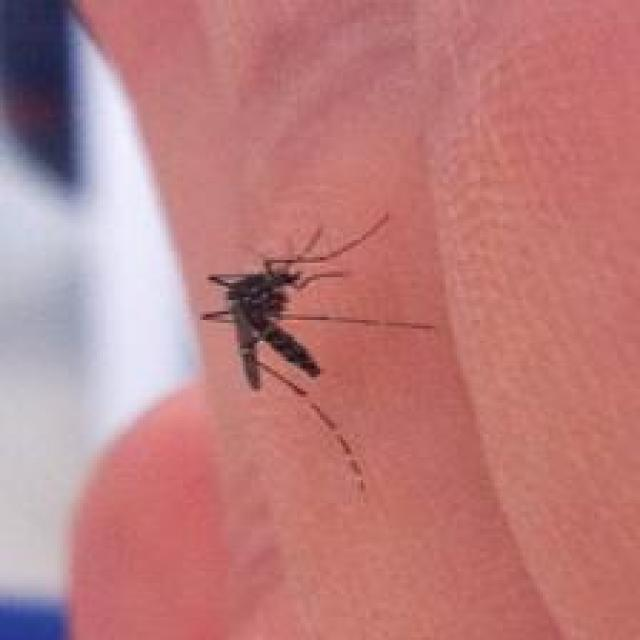Aedes albopictus: (198, 209, 436, 500)
